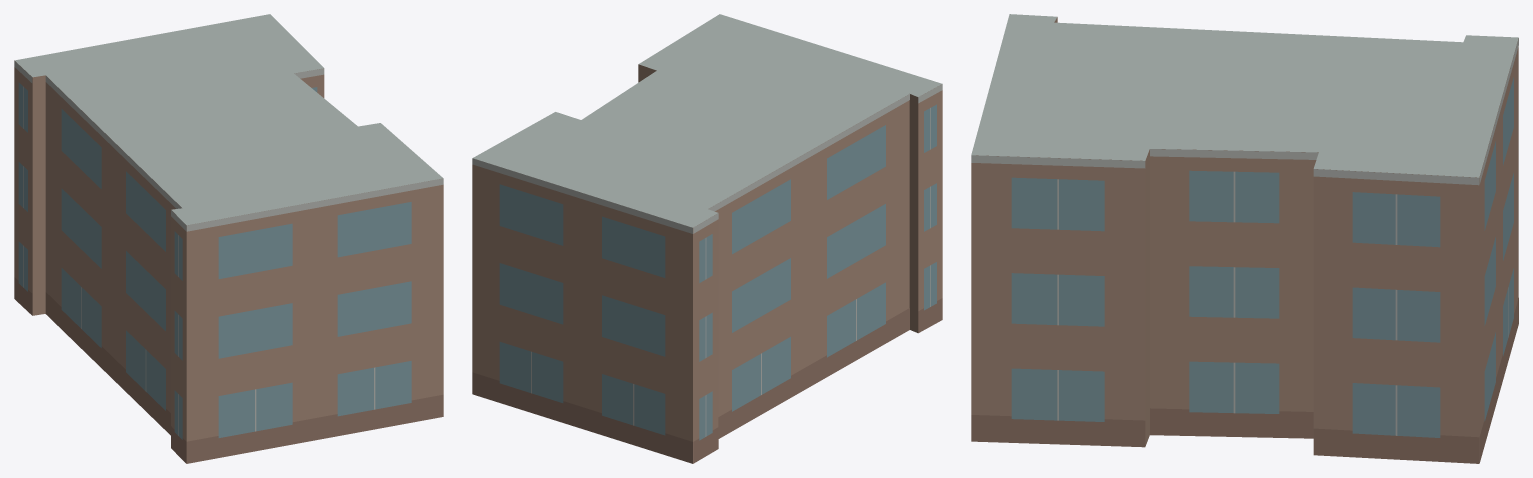
Rendered from survey-upis-32929349.glb.
3 views of the same model, side by side, from view 1: azimuth 30°, elevation 25°; view 2: azimuth 150°, elevation 25°; view 3: azimuth 270°, elevation 25° (orthographic). The views are drawn at different scales.
Visible parts, largest first — view 1: survey-upis-32929349.tmp; view 2: survey-upis-32929349.tmp; view 3: survey-upis-32929349.tmp.
Part boxes in pixels (<box>): survey-upis-32929349.tmp: <box>14,14,443,463</box>; survey-upis-32929349.tmp: <box>472,14,942,463</box>; survey-upis-32929349.tmp: <box>971,14,1518,463</box>.
Size of the model in its own units: 11.22 by 9.15 by 15.87.
